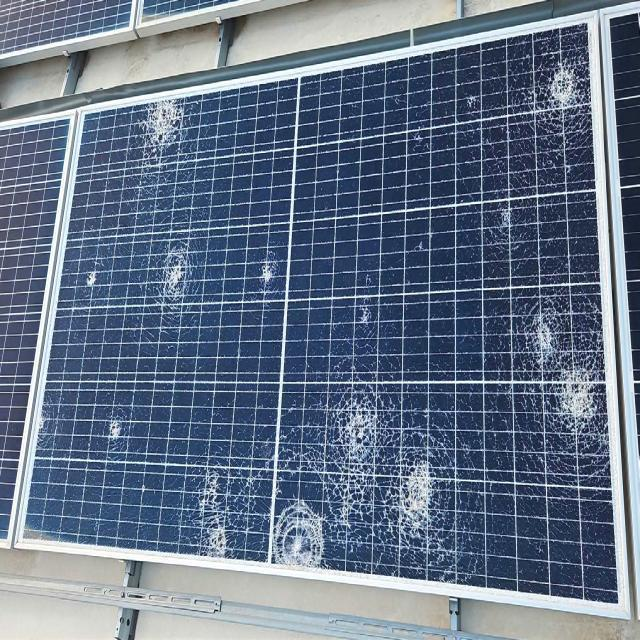Anomaly Solar Panel: (12, 12, 630, 619)
Normal Solar Panel: (0, 115, 71, 541), (604, 10, 640, 468), (0, 0, 240, 56)
Structural Damage: (262, 387, 466, 569), (496, 285, 608, 469), (180, 452, 256, 558), (520, 41, 586, 136), (149, 233, 202, 312), (134, 101, 194, 159), (477, 194, 535, 248), (28, 392, 62, 463), (255, 252, 285, 290), (104, 410, 130, 450), (82, 262, 103, 296)
